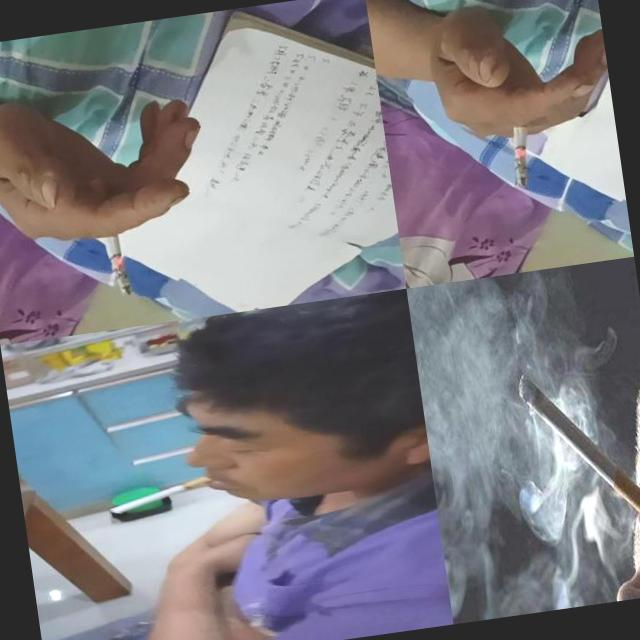cigarette: (514, 355, 640, 532), (88, 175, 133, 299), (107, 475, 216, 515), (506, 110, 538, 188)
